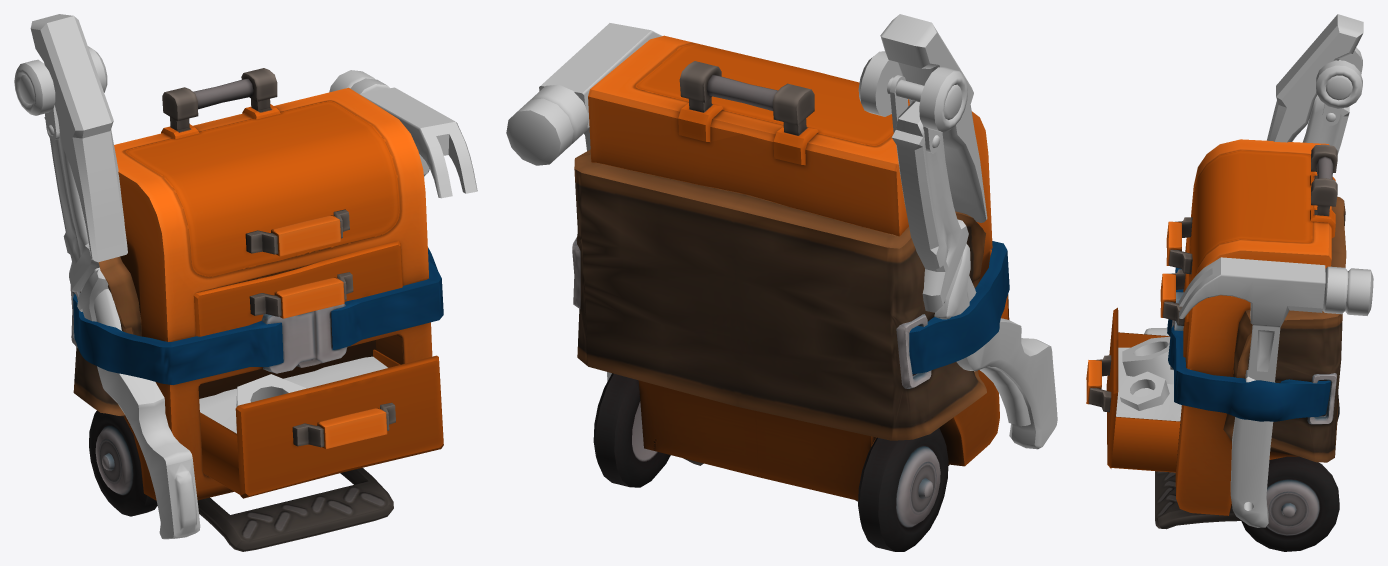
The model's file is Toolkit.fbx.
The picture shows the model from 3 angles, left to right: view 1: azimuth 30°, elevation 25°; view 2: azimuth 150°, elevation 25°; view 3: azimuth 270°, elevation 25°; orthographic projection. The views are drawn at different scales.
Parts seen in each view (by area): view 1: Toolkit; view 2: Toolkit; view 3: Toolkit.
Part boxes in pixels (x1,y1,x2,y2): Toolkit: [14, 14, 477, 551]; Toolkit: [506, 14, 1057, 551]; Toolkit: [1086, 14, 1373, 551].
Size of the model in its own units: 2.2 by 2.75 by 1.72.
